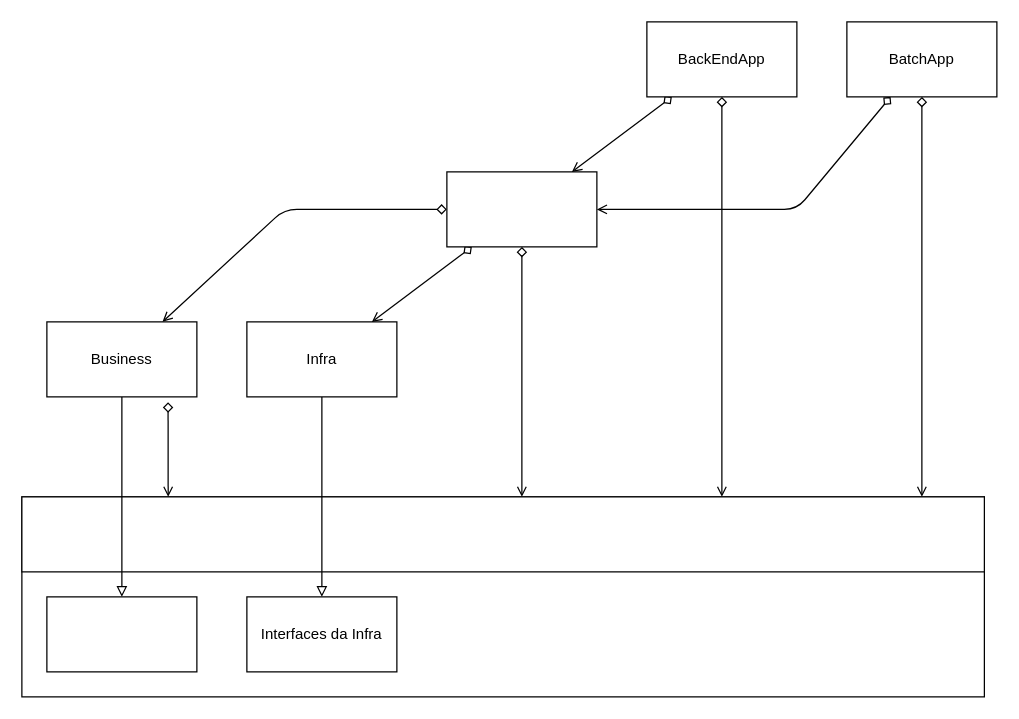
This 1019x719 diagram has some shape labels left out. The shapes that lost their labels are listed below. From the top down, each one's centre as x and y in pixels, then its label:
point (521, 209): IncersionOfControl
point (502, 534): Domain
point (121, 634): Interfaces do Business
